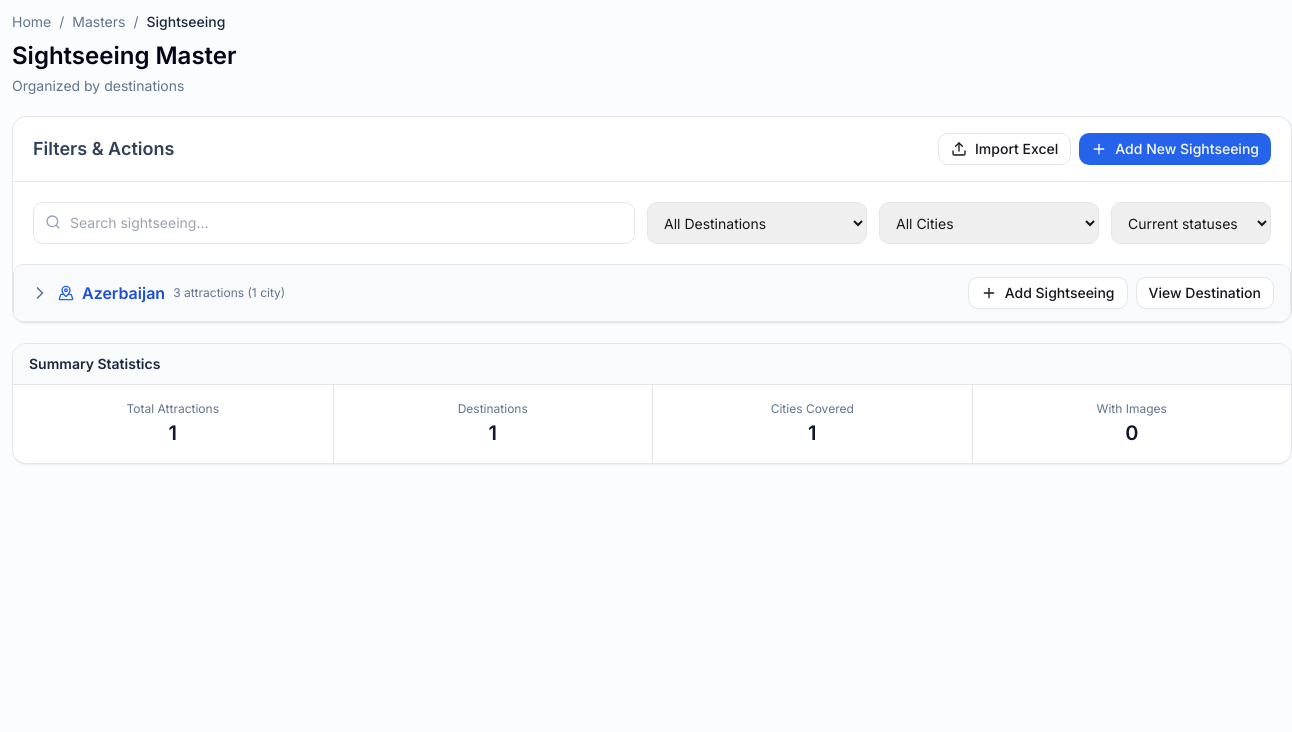
Test case: Phase 13D master pages › renders sightseeing rows in ascending sequence order within a city
Click the button "Azerbaijan 3 attractions (1 city)": (158, 293) x1=30 y1=281 x2=285 y2=305
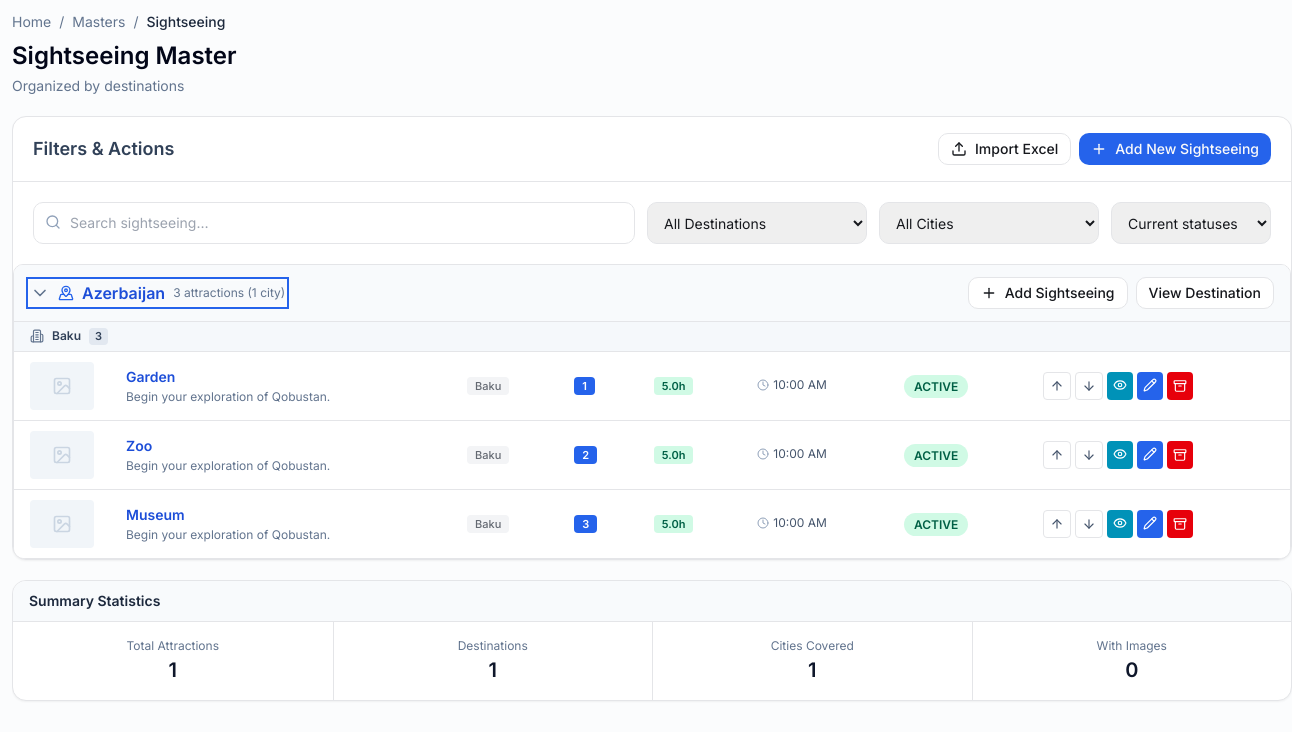
Check: the row that starts with "Garden" is shown, box x1=126 y1=368 x2=175 y2=384
